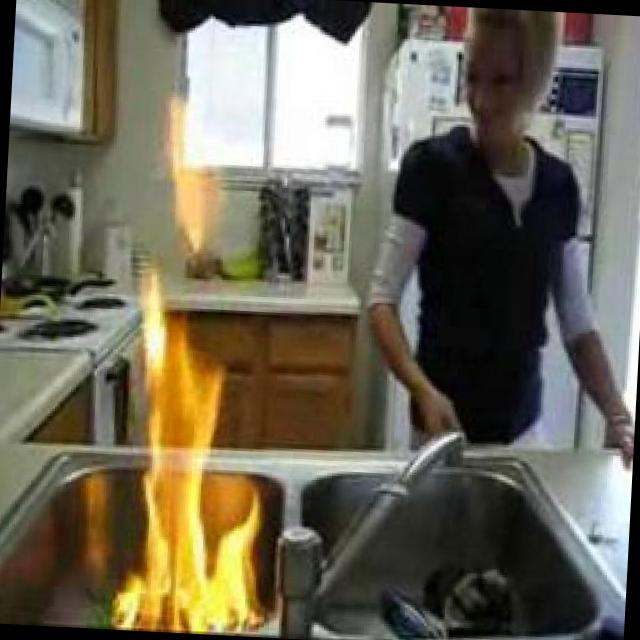Fire: (110, 257, 290, 638), (147, 84, 246, 264)
